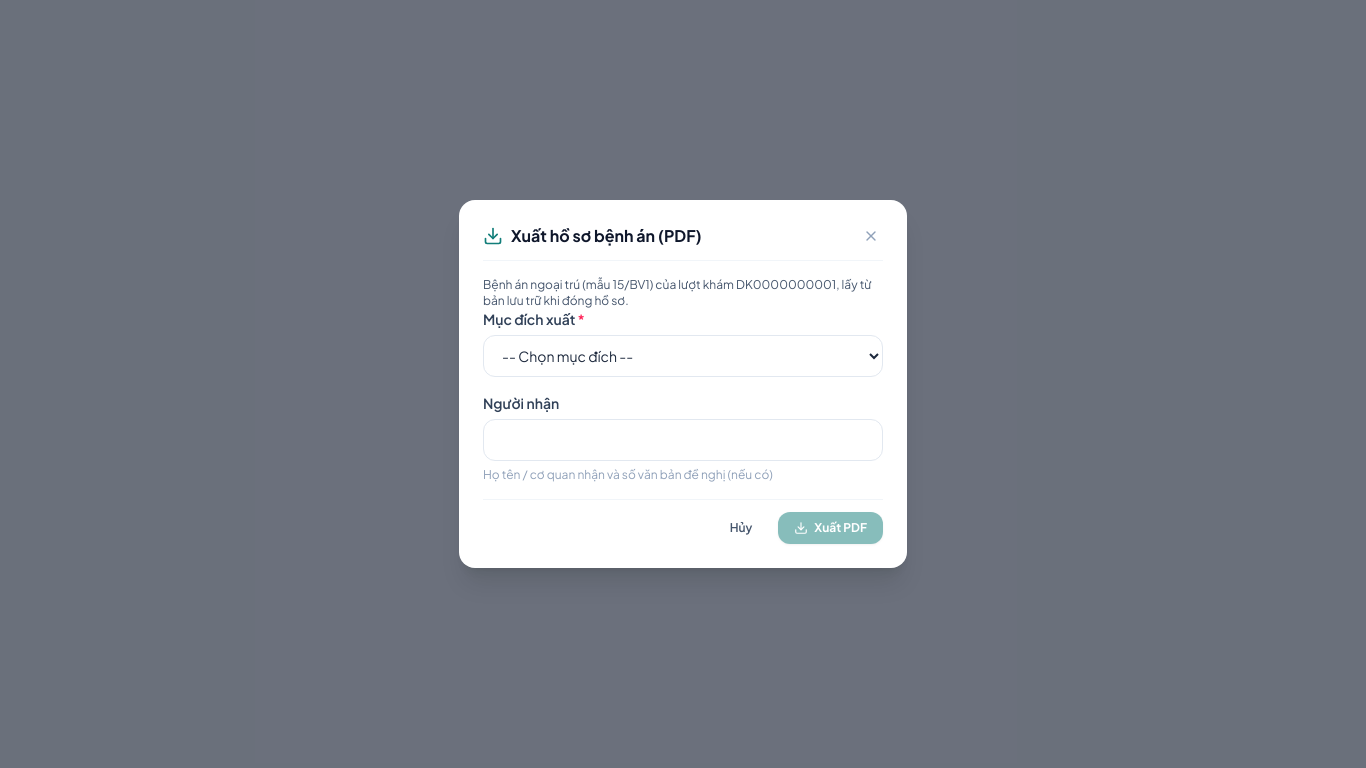
it: ExportMedicalRecordDialog (UC-53) › puts a field error from the backend under its field
The image size is (1366, 768).
Select "Lưu trữ" in the dropdown labelled "Mục đích xuất*" at [683, 356], box [483,335,883,377]
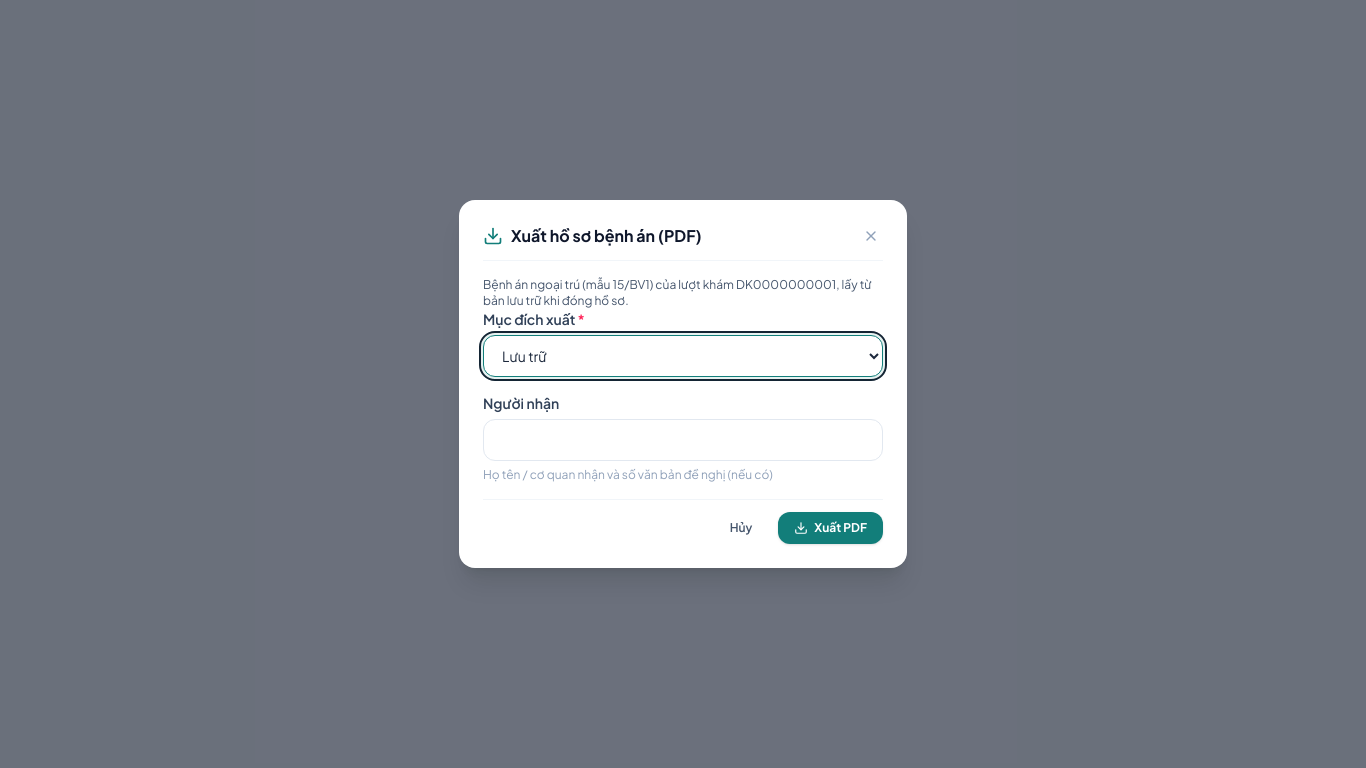
Click the button "Xuất PDF".
click(831, 528)  # box [778,512,883,544]
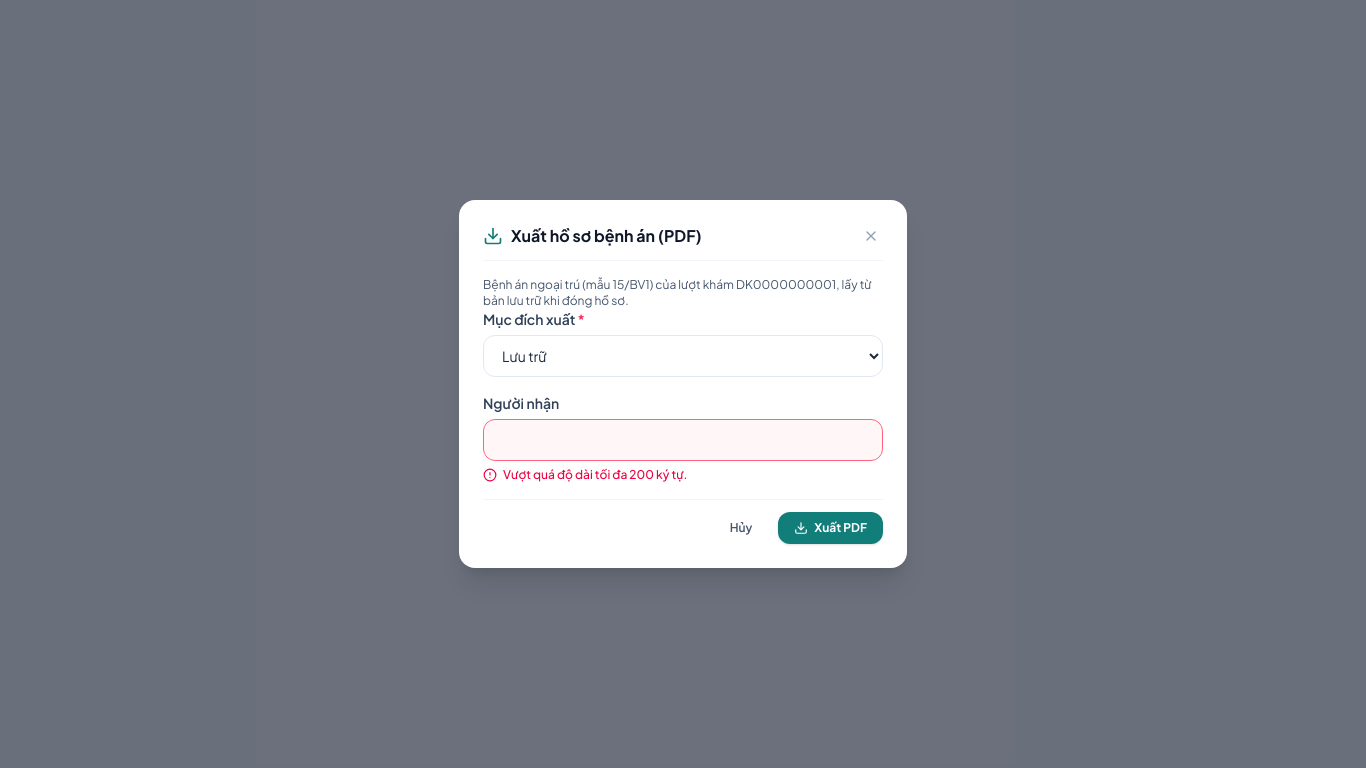
Result: the text "Vượt quá độ dài tối đa 200 ký tự." is shown at [503,467,687,483]
